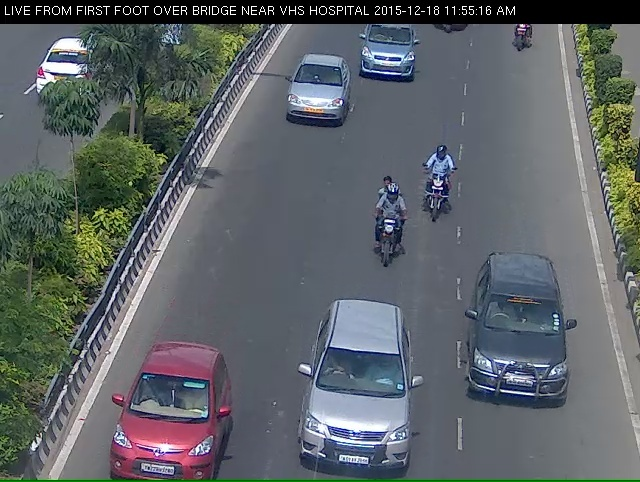Car: (287, 316, 423, 479), (458, 271, 584, 444), (81, 370, 226, 477), (276, 61, 348, 142), (354, 20, 419, 91)
Person: (411, 158, 455, 250), (367, 189, 402, 298), (501, 18, 536, 70)
